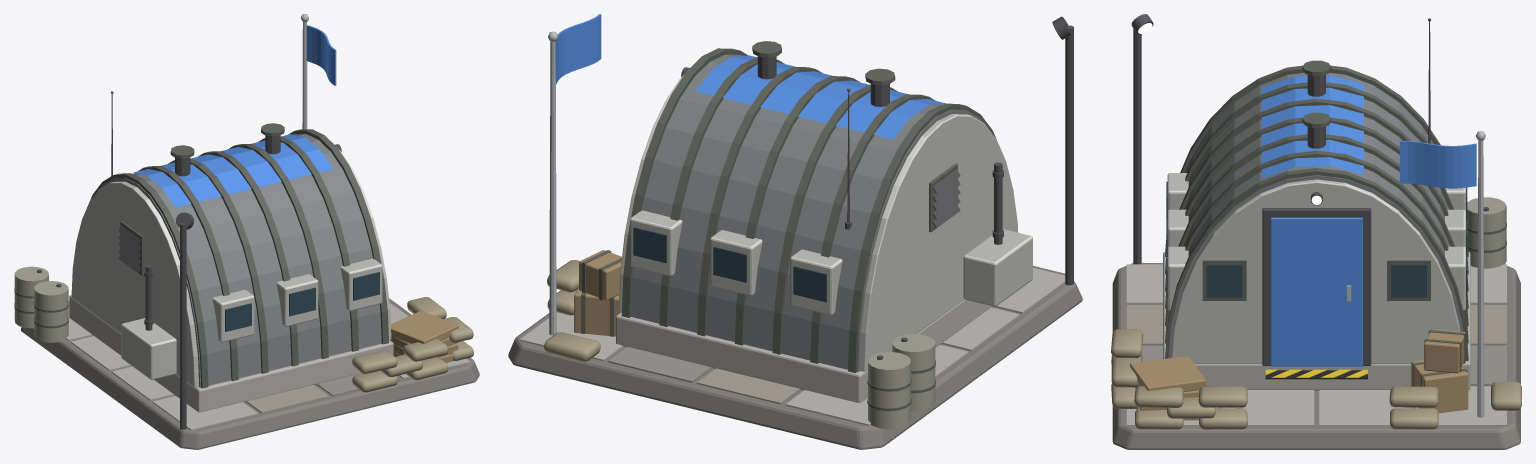
The model's file is barracks_blue.glb.
3 renders of one model, left to right at view 1: azimuth 30°, elevation 25°; view 2: azimuth 150°, elevation 25°; view 3: azimuth 270°, elevation 25°, orthographic. The views are drawn at different scales.
Visible parts, largest first — view 1: Body; view 2: Body; view 3: Body.
Boxes of the visible parts, <box> form: Body: <box>14,14,479,449</box>; Body: <box>508,14,1082,449</box>; Body: <box>1111,14,1521,449</box>.
Size of the model in its own units: 4.14 by 3.28 by 4.01.
Materials: 1 (1 with a texture image).
